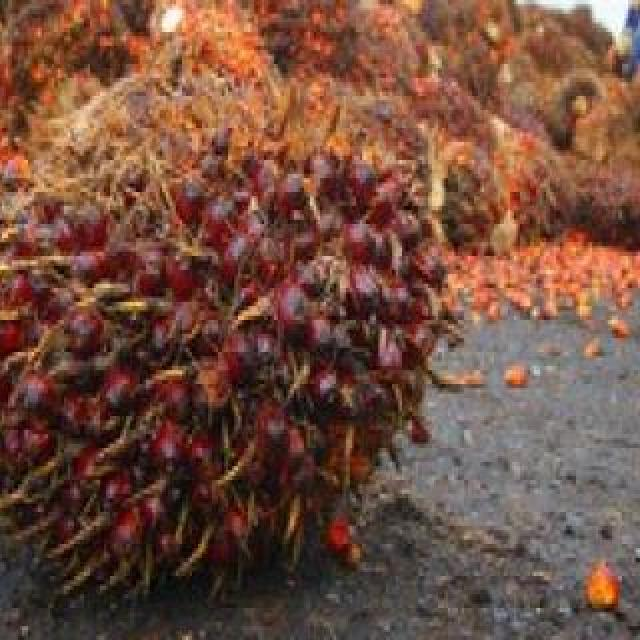Ripe: (0, 114, 446, 594), (244, 0, 372, 70)
